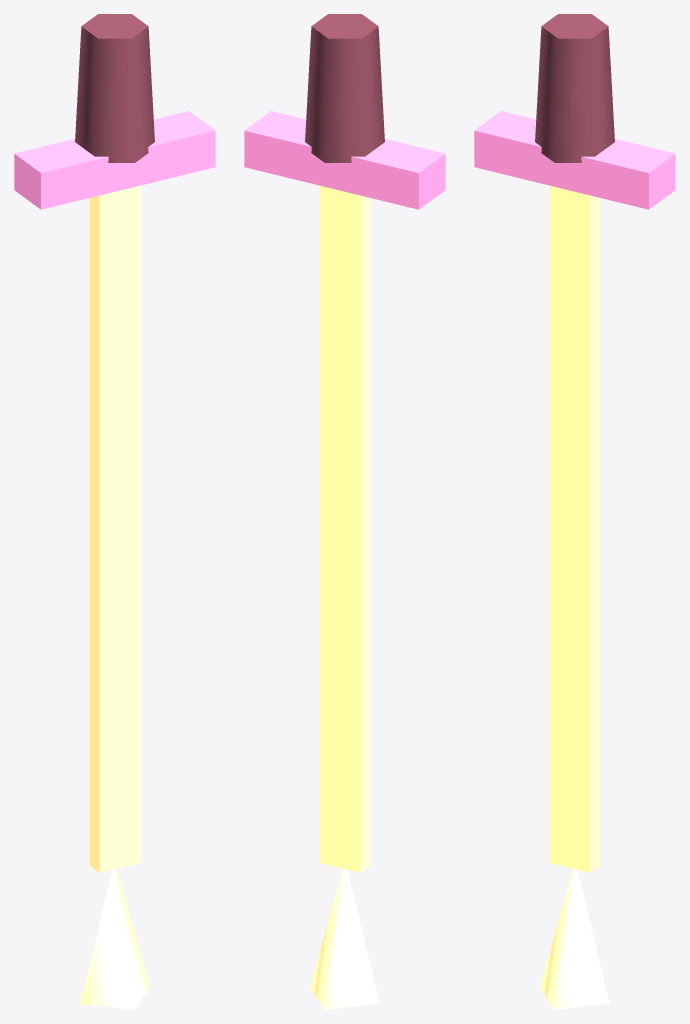
The model's file is zeybek.glb.
3 renders of one model, left to right at view 1: azimuth 30°, elevation 25°; view 2: azimuth 150°, elevation 25°; view 3: azimuth 330°, elevation 25°, orthographic.
Bounding box in the file's own units: 0.3 × 1.59 × 0.12.
